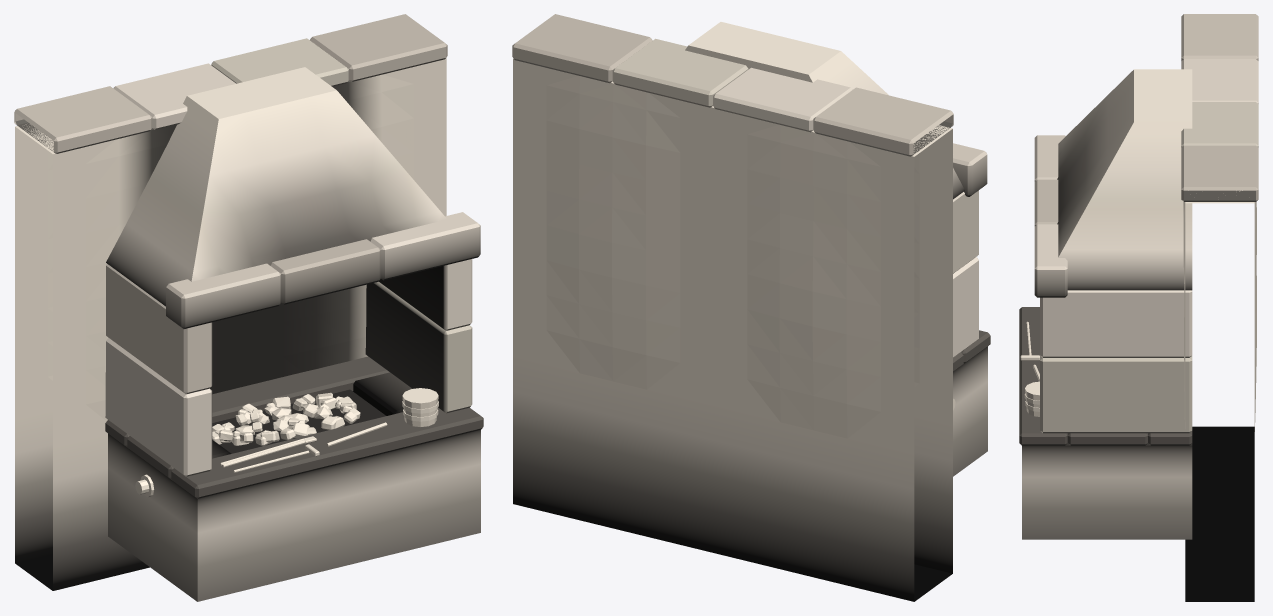
The model's file is SM_VKI_Wall_Stone_Forge_300_Full.fbx.
3 views of the same model, side by side, from view 1: azimuth 30°, elevation 25°; view 2: azimuth 150°, elevation 25°; view 3: azimuth 270°, elevation 25° (orthographic). The views are drawn at different scales.
Parts seen in each view (by area): view 1: SM_VKI_Wall_Stone_Forge_300_Full.001; view 2: SM_VKI_Wall_Stone_Forge_300_Full.001; view 3: SM_VKI_Wall_Stone_Forge_300_Full.001.
Part boxes in pixels (box(x1,y1,x2,y2)): SM_VKI_Wall_Stone_Forge_300_Full.001: box(14, 14, 483, 601); SM_VKI_Wall_Stone_Forge_300_Full.001: box(512, 14, 990, 601); SM_VKI_Wall_Stone_Forge_300_Full.001: box(1019, 14, 1258, 601).
Bounding box in the file's own units: 3 × 3.34 × 1.73.
